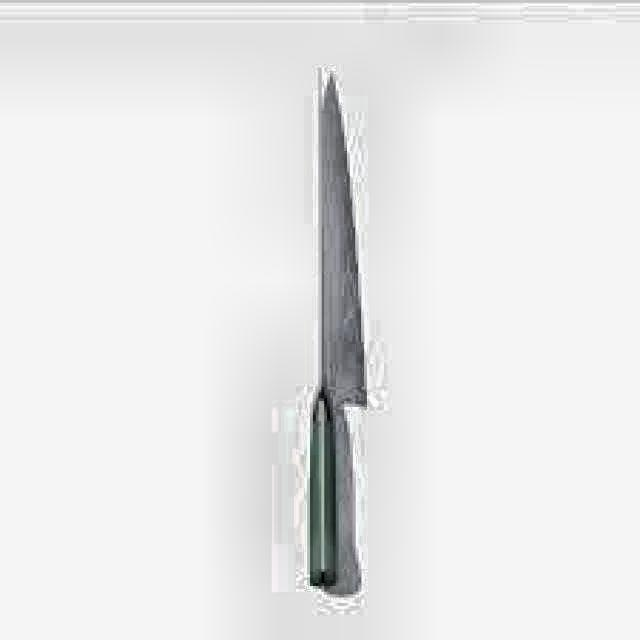knife: (306, 59, 338, 592)
